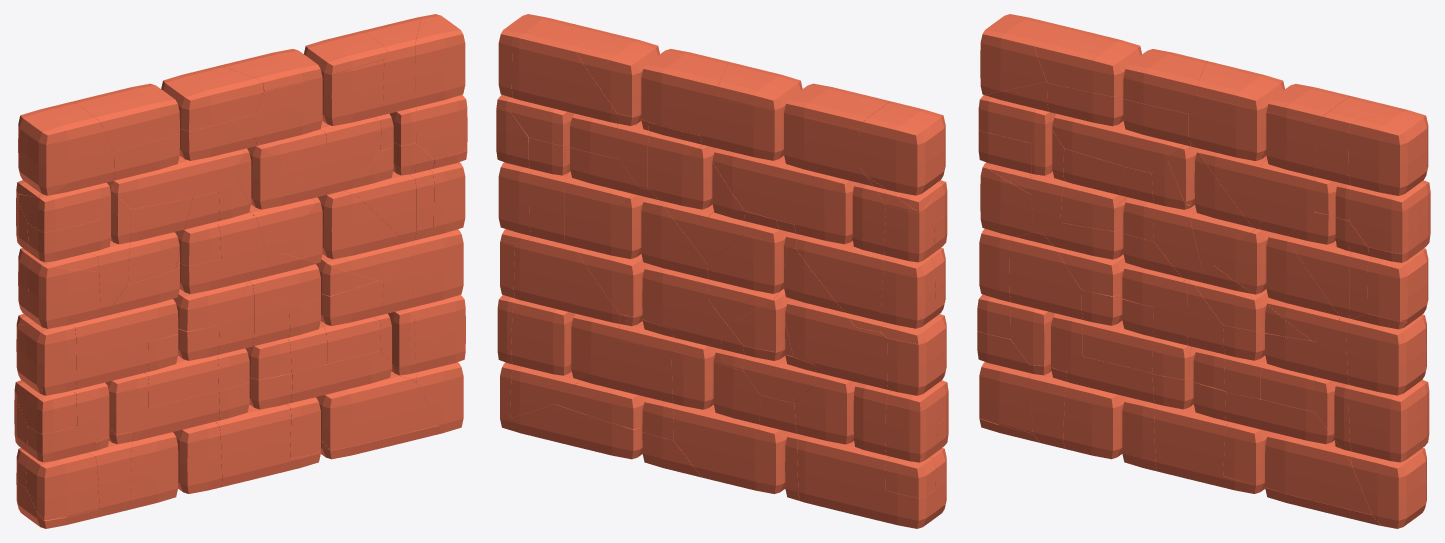
Rendered from parcalwall.fbx.
3 renders of one model, left to right at view 1: azimuth 30°, elevation 25°; view 2: azimuth 150°, elevation 25°; view 3: azimuth 330°, elevation 25°, orthographic.
Parts seen in each view (by area): view 1: wall.006_cell.034, wall.006_cell.062, wall.006_cell.051, wall.006_cell.016, wall.006_cell.081, wall.006_cell.054, wall.006_cell.111, wall.006_cell.030, wall.006_cell.060, wall.006_cell.052, wall.006_cell.134, wall.006_cell.087 (+74 smaller); view 2: wall.006_cell.099, wall.006_cell.034, wall.006_cell.083, wall.006_cell.040, wall.006_cell.078, wall.006_cell.057, wall.006_cell.118, wall.006_cell.013, wall.006_cell.044, wall.006_cell.120, wall.006_cell.017, wall.006_cell.014 (+64 smaller); view 3: wall.006_cell.052, wall.006_cell.062, wall.006_cell.011, wall.006_cell.069, wall.006_cell.081, wall.006_cell.051, wall.006_cell.034, wall.006_cell.054, wall.006_cell.068, wall.006_cell.111, wall.006_cell.001, wall.006_cell.016 (+72 smaller).
Part boxes in pixels (<box>): wall.006_cell.034: <box>18,101,113,195</box>; wall.006_cell.062: <box>316,374,437,450</box>; wall.006_cell.051: <box>215,404,291,486</box>; wall.006_cell.016: <box>161,66,263,131</box>; wall.006_cell.081: <box>72,83,179,151</box>; wall.006_cell.054: <box>72,313,148,389</box>; wall.006_cell.111: <box>110,149,244,208</box>; wall.006_cell.030: <box>28,257,100,328</box>; wall.006_cell.060: <box>26,453,99,520</box>; wall.006_cell.052: <box>415,14,465,106</box>; wall.006_cell.134: <box>317,191,404,259</box>; wall.006_cell.087: <box>255,78,322,144</box>; wall.006_cell.099: <box>512,24,617,123</box>; wall.006_cell.034: <box>860,101,945,195</box>; wall.006_cell.083: <box>514,236,619,323</box>; wall.006_cell.040: <box>641,49,728,135</box>; wall.006_cell.078: <box>712,148,845,224</box>; wall.006_cell.057: <box>797,436,889,515</box>; wall.006_cell.118: <box>673,404,759,490</box>; wall.006_cell.013: <box>796,236,887,321</box>; wall.006_cell.044: <box>502,404,642,459</box>; wall.006_cell.120: <box>576,31,659,116</box>; wall.006_cell.017: <box>511,300,575,375</box>; wall.006_cell.014: <box>784,113,859,179</box>; wall.006_cell.052: <box>1348,111,1428,195</box>; wall.006_cell.062: <box>1265,432,1371,514</box>; wall.006_cell.011: <box>1348,380,1429,462</box>; wall.006_cell.069: <box>1346,320,1426,395</box>; wall.006_cell.081: <box>1034,26,1141,96</box>; wall.006_cell.051: <box>1154,404,1229,484</box>; wall.006_cell.034: <box>980,14,1062,94</box>; wall.006_cell.054: <box>1009,236,1082,319</box>; wall.006_cell.068: <box>1351,448,1426,528</box>; wall.006_cell.111: <box>1052,114,1183,173</box>; wall.006_cell.001: <box>1349,180,1430,253</box>; wall.006_cell.016: <box>1123,49,1207,113</box>.
Bounding box in the file's own units: 578 × 513 × 70.35.
